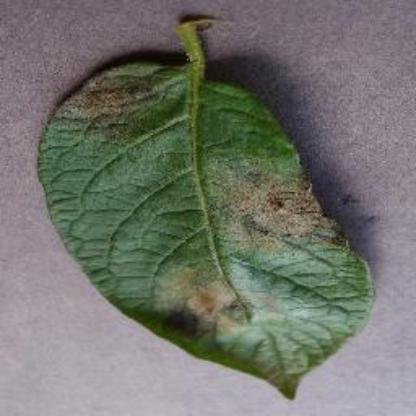Late-Blight: (17, 26, 391, 404)
